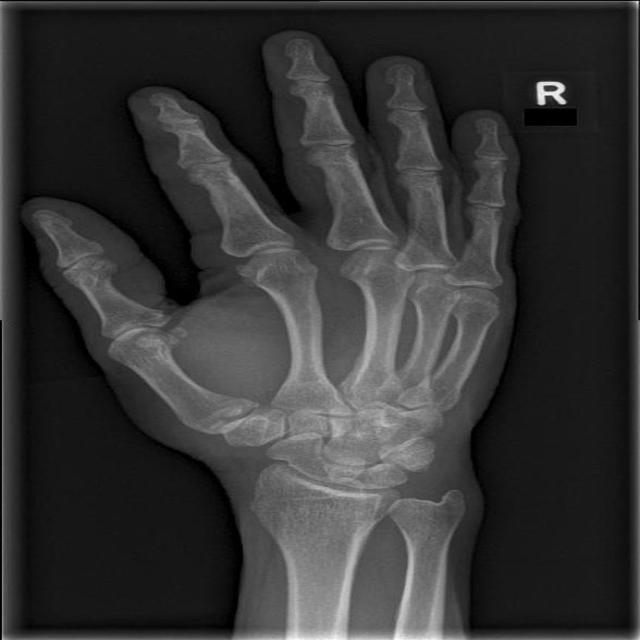fracture: (72, 259, 116, 292), (136, 308, 171, 324)
